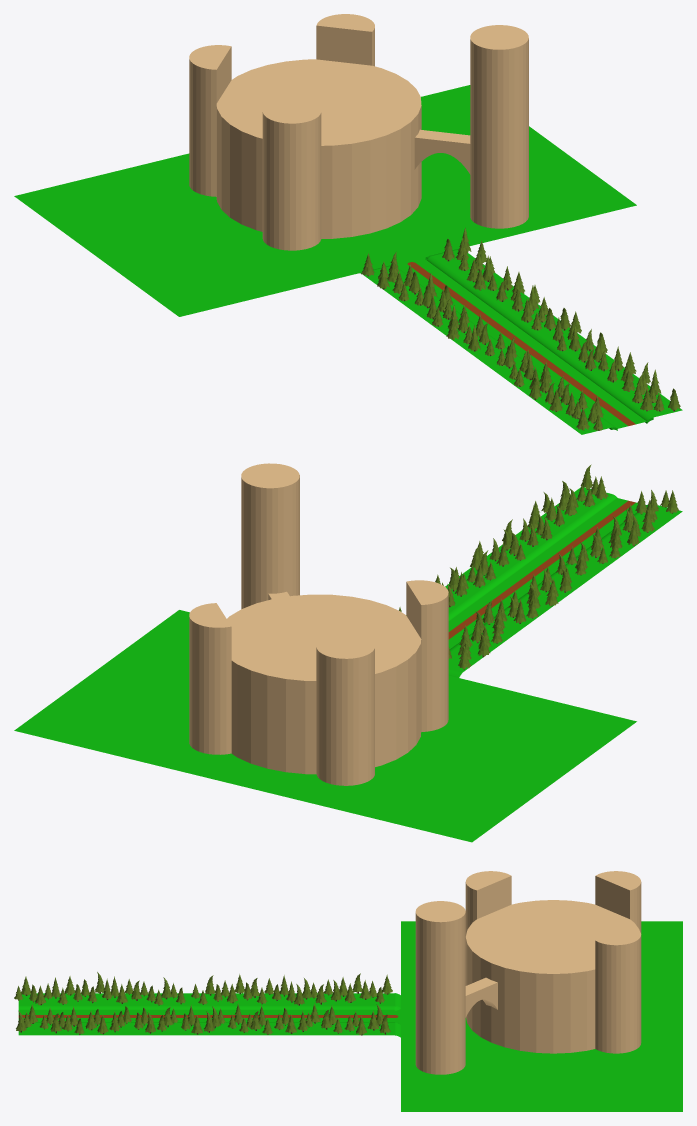
Rendered from camiInicial.glb.
3 views of the same model, one above another, from view 1: azimuth 30°, elevation 25°; view 2: azimuth 150°, elevation 25°; view 3: azimuth 270°, elevation 25° (orthographic). The views are drawn at different scales.
Visible parts, largest first — view 1: terraBellver, Castell, Semitorre, Torre, bosc.E, herba.E.002, Semitorre.001, rampaBosc.E, terra, Pont; view 2: terraBellver, Castell, Semitorre, Torre, Semitorre.001, bosc.E, herba.E.002, rampaBosc.E, terra; view 3: terraBellver, Castell, Torre, bosc.E, Semitorre.001, Semitorre, rampaBosc.E, herba.E.002, Pont, terra.
Part boxes in pixels (bbox=[...]): terraBellver: bbox=[14, 85, 636, 316]; Castell: bbox=[216, 59, 421, 238]; Semitorre: bbox=[189, 45, 321, 250]; Torre: bbox=[470, 25, 528, 228]; bosc.E: bbox=[363, 250, 682, 434]; herba.E.002: bbox=[398, 260, 646, 428]; Semitorre.001: bbox=[316, 14, 374, 66]; rampaBosc.E: bbox=[398, 256, 653, 430]; terra: bbox=[408, 263, 635, 425]; Pont: bbox=[414, 129, 470, 174]; terraBellver: bbox=[14, 610, 636, 842]; Castell: bbox=[227, 594, 421, 774]; Semitorre: bbox=[316, 580, 448, 785]; Torre: bbox=[241, 463, 299, 608]; Semitorre.001: bbox=[189, 603, 231, 754]; bosc.E: bbox=[445, 487, 682, 672]; herba.E.002: bbox=[448, 498, 646, 648]; rampaBosc.E: bbox=[448, 494, 647, 651]; terra: bbox=[448, 500, 635, 639]; terraBellver: bbox=[394, 921, 682, 1111]; Castell: bbox=[465, 900, 639, 1053]; Torre: bbox=[415, 901, 465, 1074]; bosc.E: bbox=[18, 993, 394, 1035]; Semitorre.001: bbox=[595, 926, 641, 1053]; Semitorre: bbox=[465, 871, 641, 936]; rampaBosc.E: bbox=[18, 1005, 394, 1022]; herba.E.002: bbox=[18, 1010, 394, 1021]; Pont: bbox=[465, 977, 497, 1017]; terra: bbox=[18, 1015, 394, 1017].
Bounding box in the file's own units: 360 × 145 × 534.
